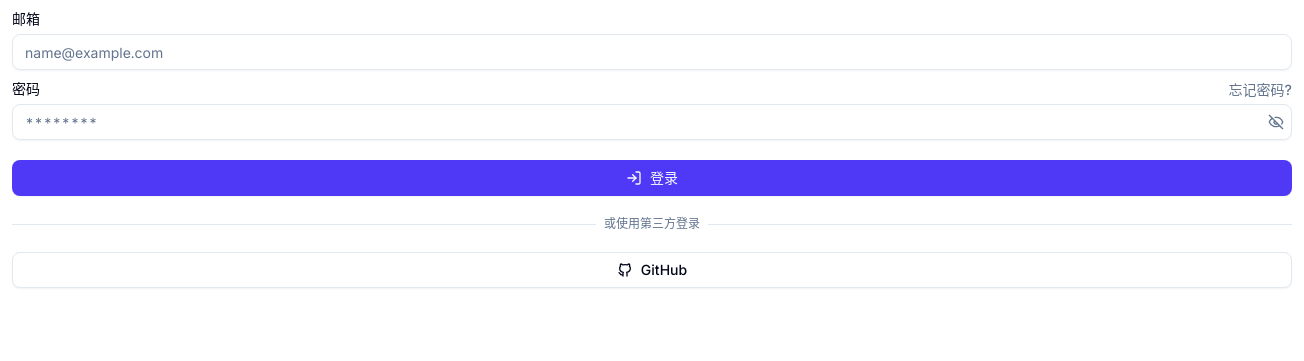
Test: UserAuthForm › Rendering without redirectTo › shows validation messages when submitting empty form
Click the button "登录" at (652, 178), box [12,160,1292,196]
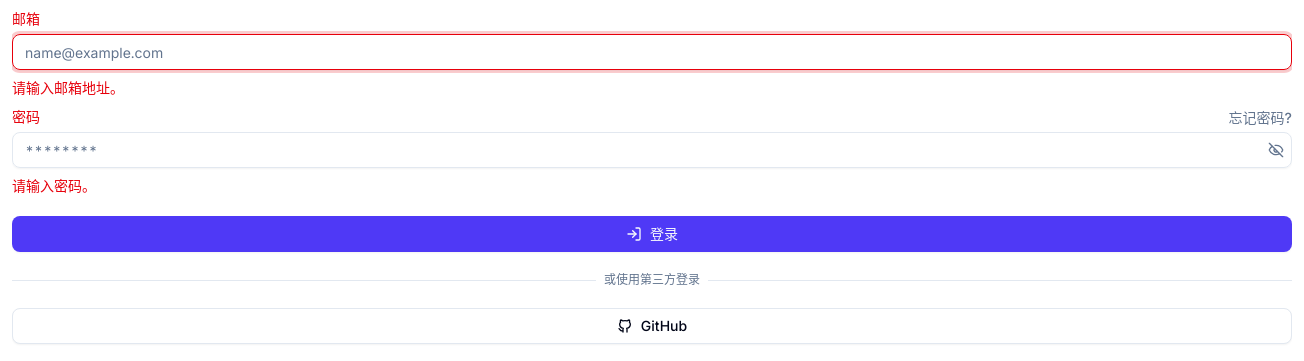
Now the text "请输入邮箱地址。" is shown, box [12,79,124,96]
Now the text "请输入密码。" is shown, box [12,177,96,194]
